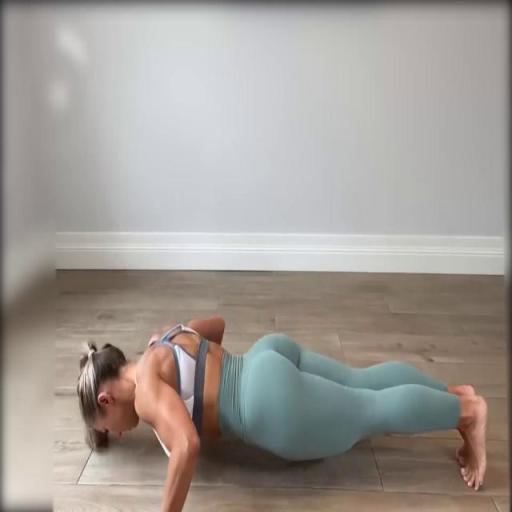Normal_Dips: (4, 306, 511, 512)
